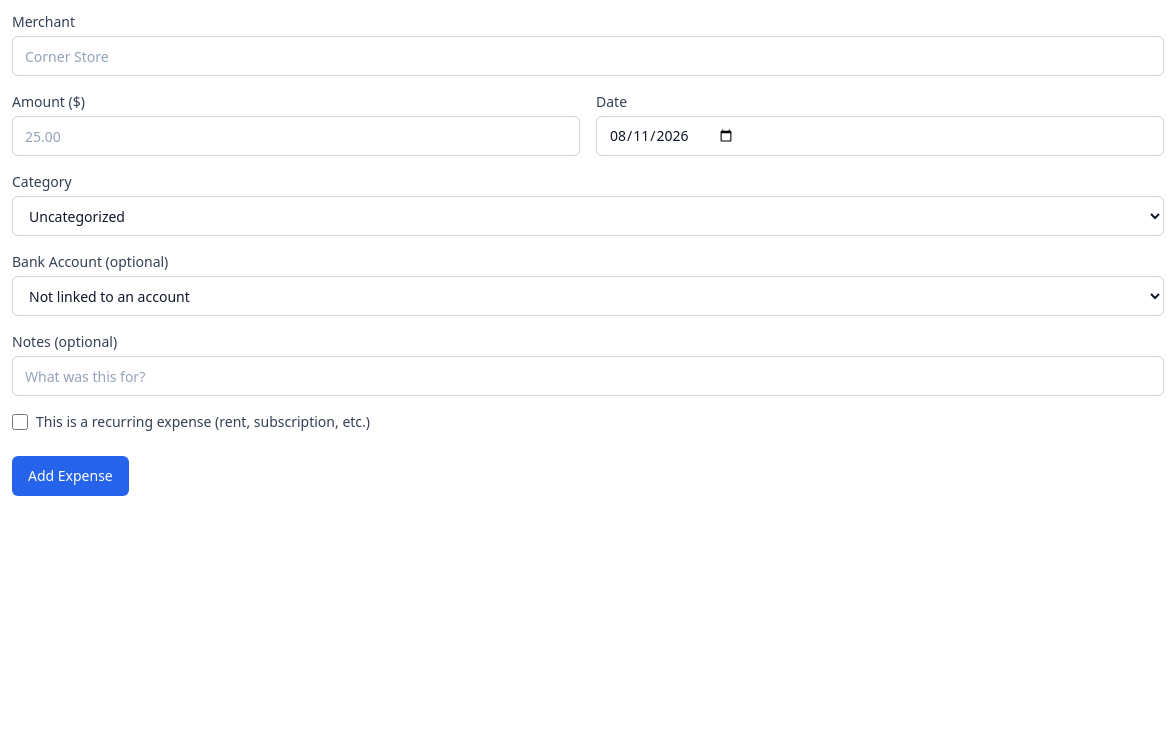
Test: ExpenseForm › rejects submission when the merchant name is missing
Clear the field labelled "Merchant" at (588, 56), box x1=12 y1=36 x2=1164 y2=76
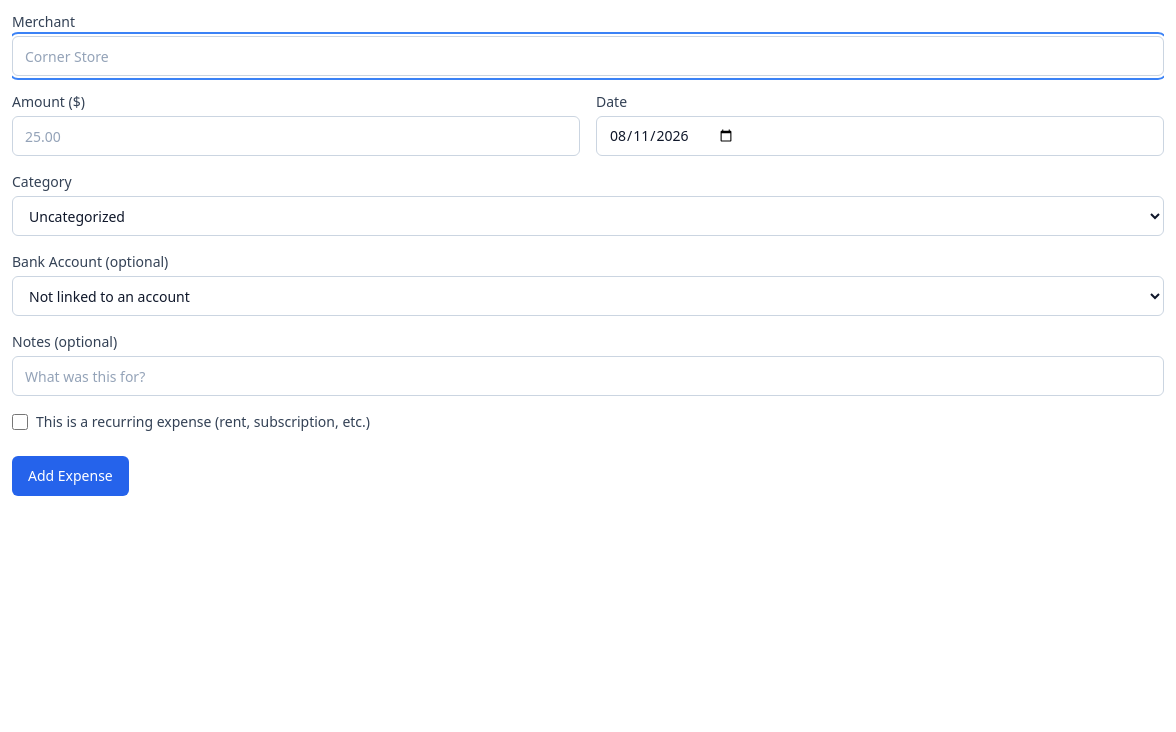
Type "10" into the number field labelled "Amount ($)" at (296, 136), box x1=12 y1=116 x2=580 y2=156
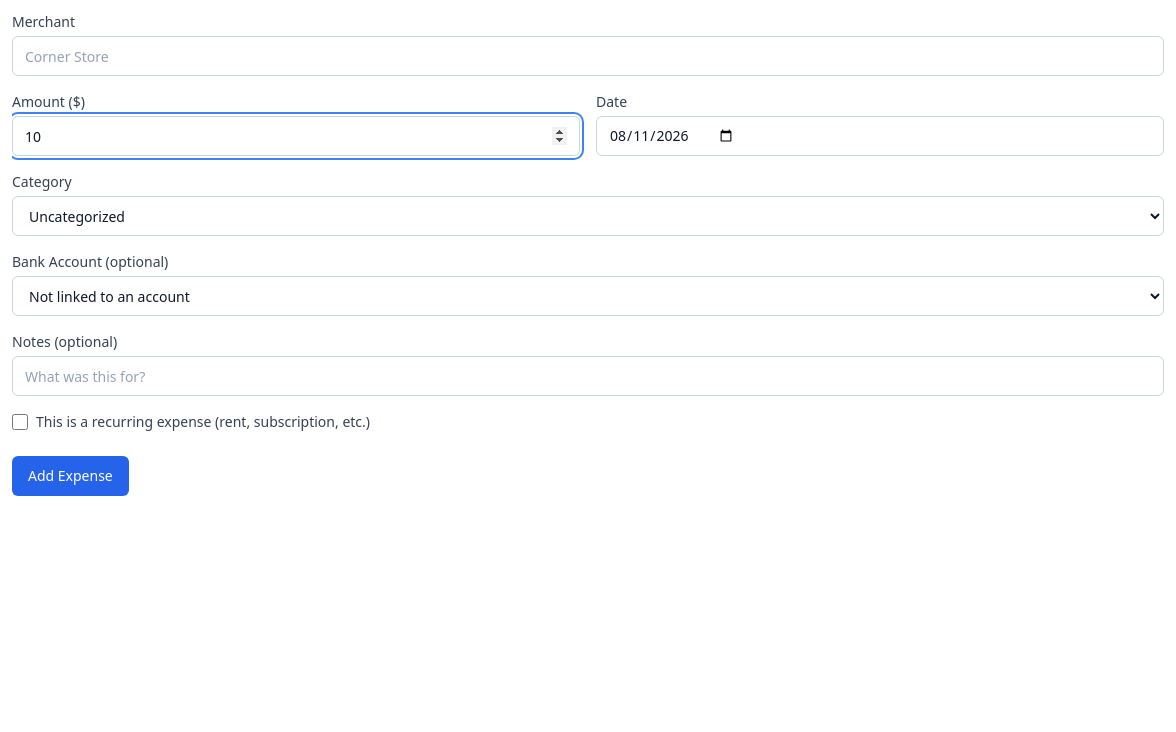
Click the button "Add Expense" at (70, 476), box x1=12 y1=456 x2=129 y2=496
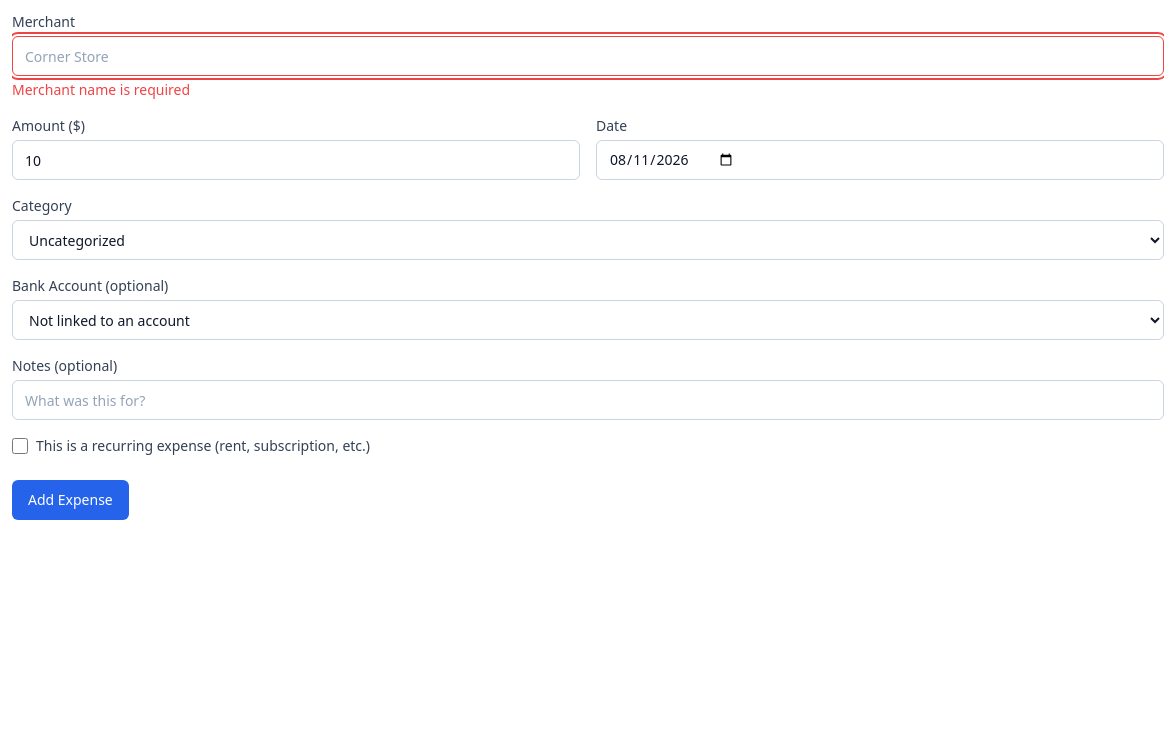
Expected: the text "Merchant name is required" is shown, x1=12 y1=80 x2=190 y2=99
